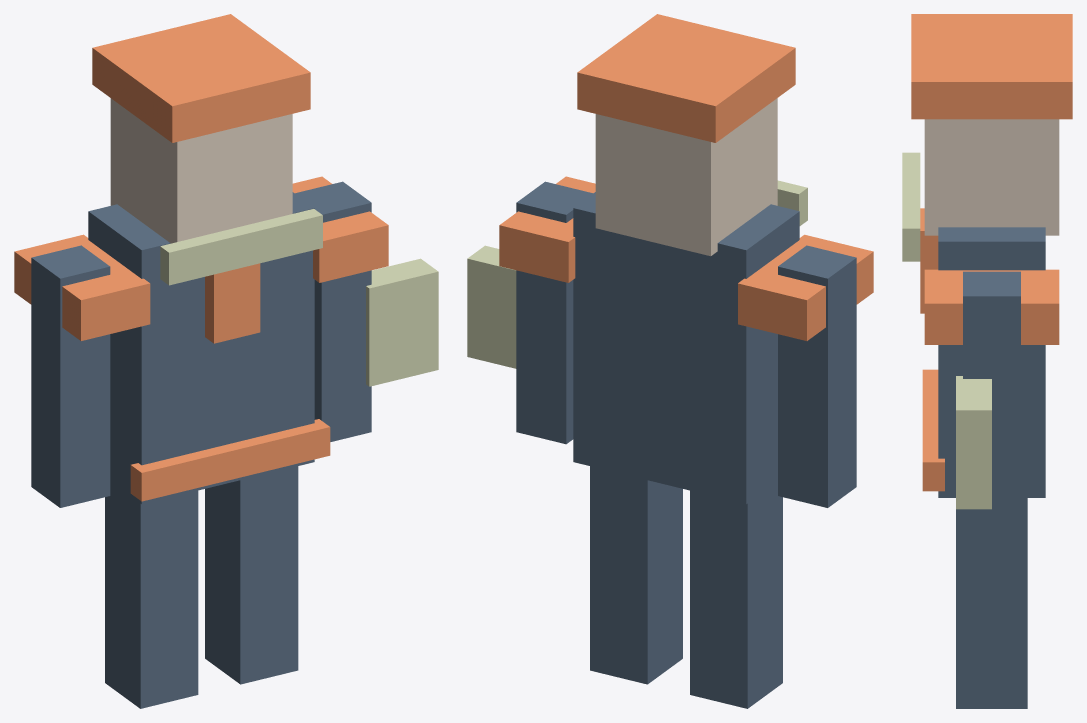
Rendered from 18_lyric_riftwalker_sentinel_near_ter.glb.
3 renders of one model, left to right at view 1: azimuth 30°, elevation 25°; view 2: azimuth 150°, elevation 25°; view 3: azimuth 270°, elevation 25°, orthographic.
Visible parts, largest first — view 1: Lyric Riftwalker, Sentinel near Ter; view 2: Lyric Riftwalker, Sentinel near Ter; view 3: Lyric Riftwalker, Sentinel near Ter.
Part boxes in pixels (x1,y1,x2,y2): Lyric Riftwalker, Sentinel near Ter: (14, 14, 438, 708); Lyric Riftwalker, Sentinel near Ter: (467, 14, 873, 708); Lyric Riftwalker, Sentinel near Ter: (902, 14, 1072, 708).
Bounding box in the file's own units: 0.9625 × 1.51 × 0.3751.
